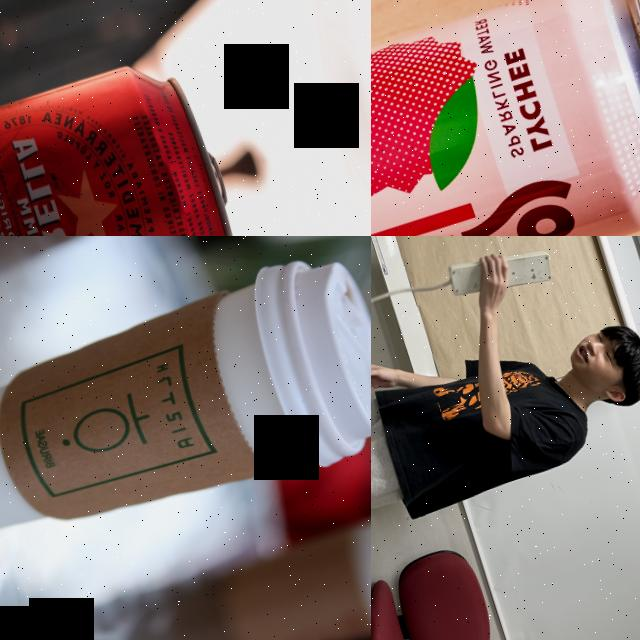can: (371, 0, 640, 236), (0, 48, 259, 236)
cup: (0, 237, 371, 587)
